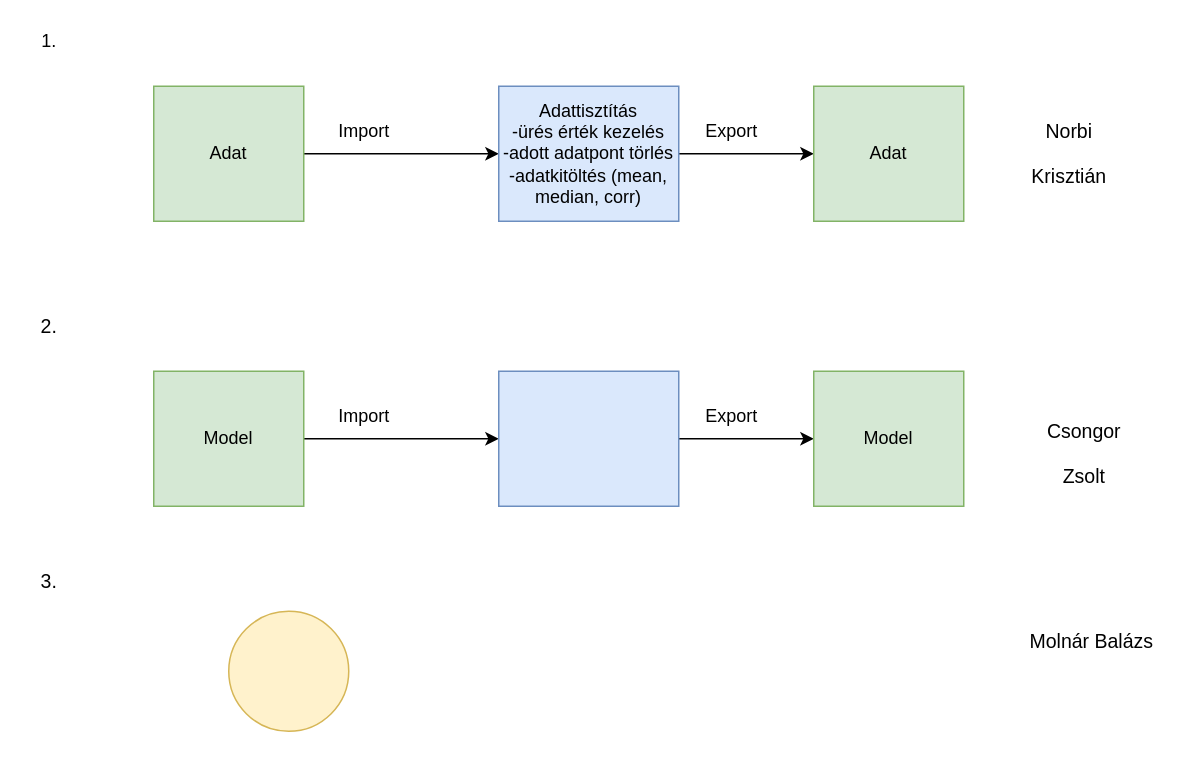
The diagram is 1191 pixels wide and 758 high, and some of its shapes have lost their labels. Each missing label, with the box of its shape:
Github project handling: (227, 610, 349, 731)
Serializáció -DataContract (meredekség, y tengely metszése): (497, 370, 679, 506)
